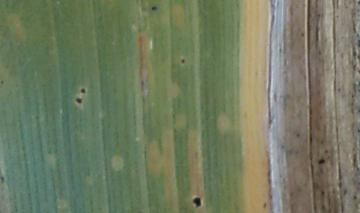tarspot: (191, 195, 202, 209), (351, 46, 358, 58), (73, 96, 83, 104), (316, 157, 326, 165), (179, 56, 186, 65), (351, 193, 358, 201), (139, 78, 145, 87), (79, 87, 86, 94), (150, 5, 158, 11), (1, 176, 6, 184), (1, 78, 5, 86)
